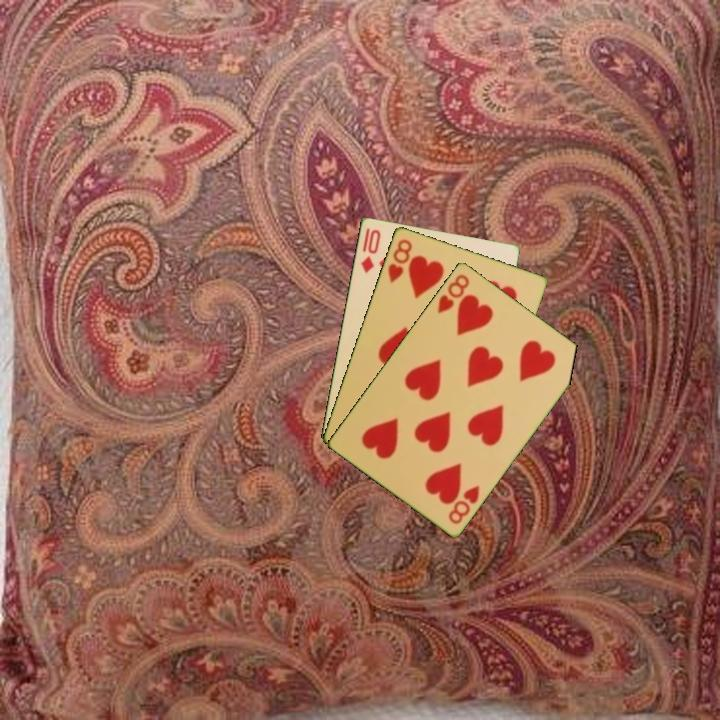10d: (357, 226, 383, 276)
8h: (434, 270, 472, 316), (445, 481, 482, 527), (384, 235, 415, 286)
